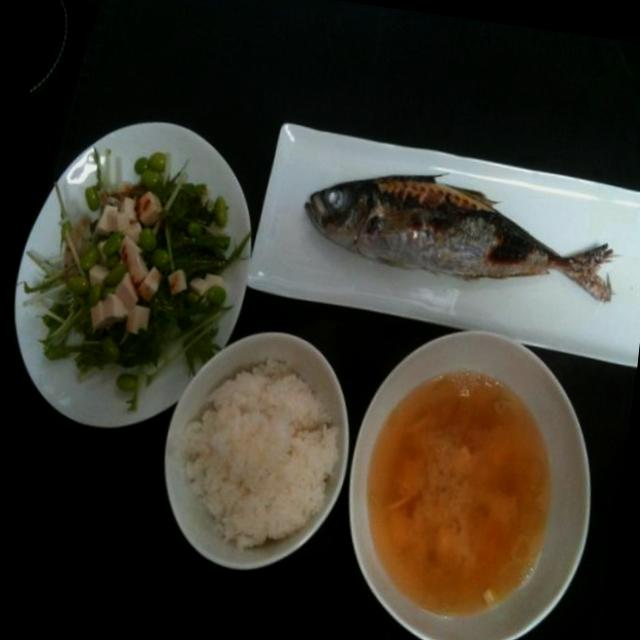Rice: (155, 318, 362, 582)
